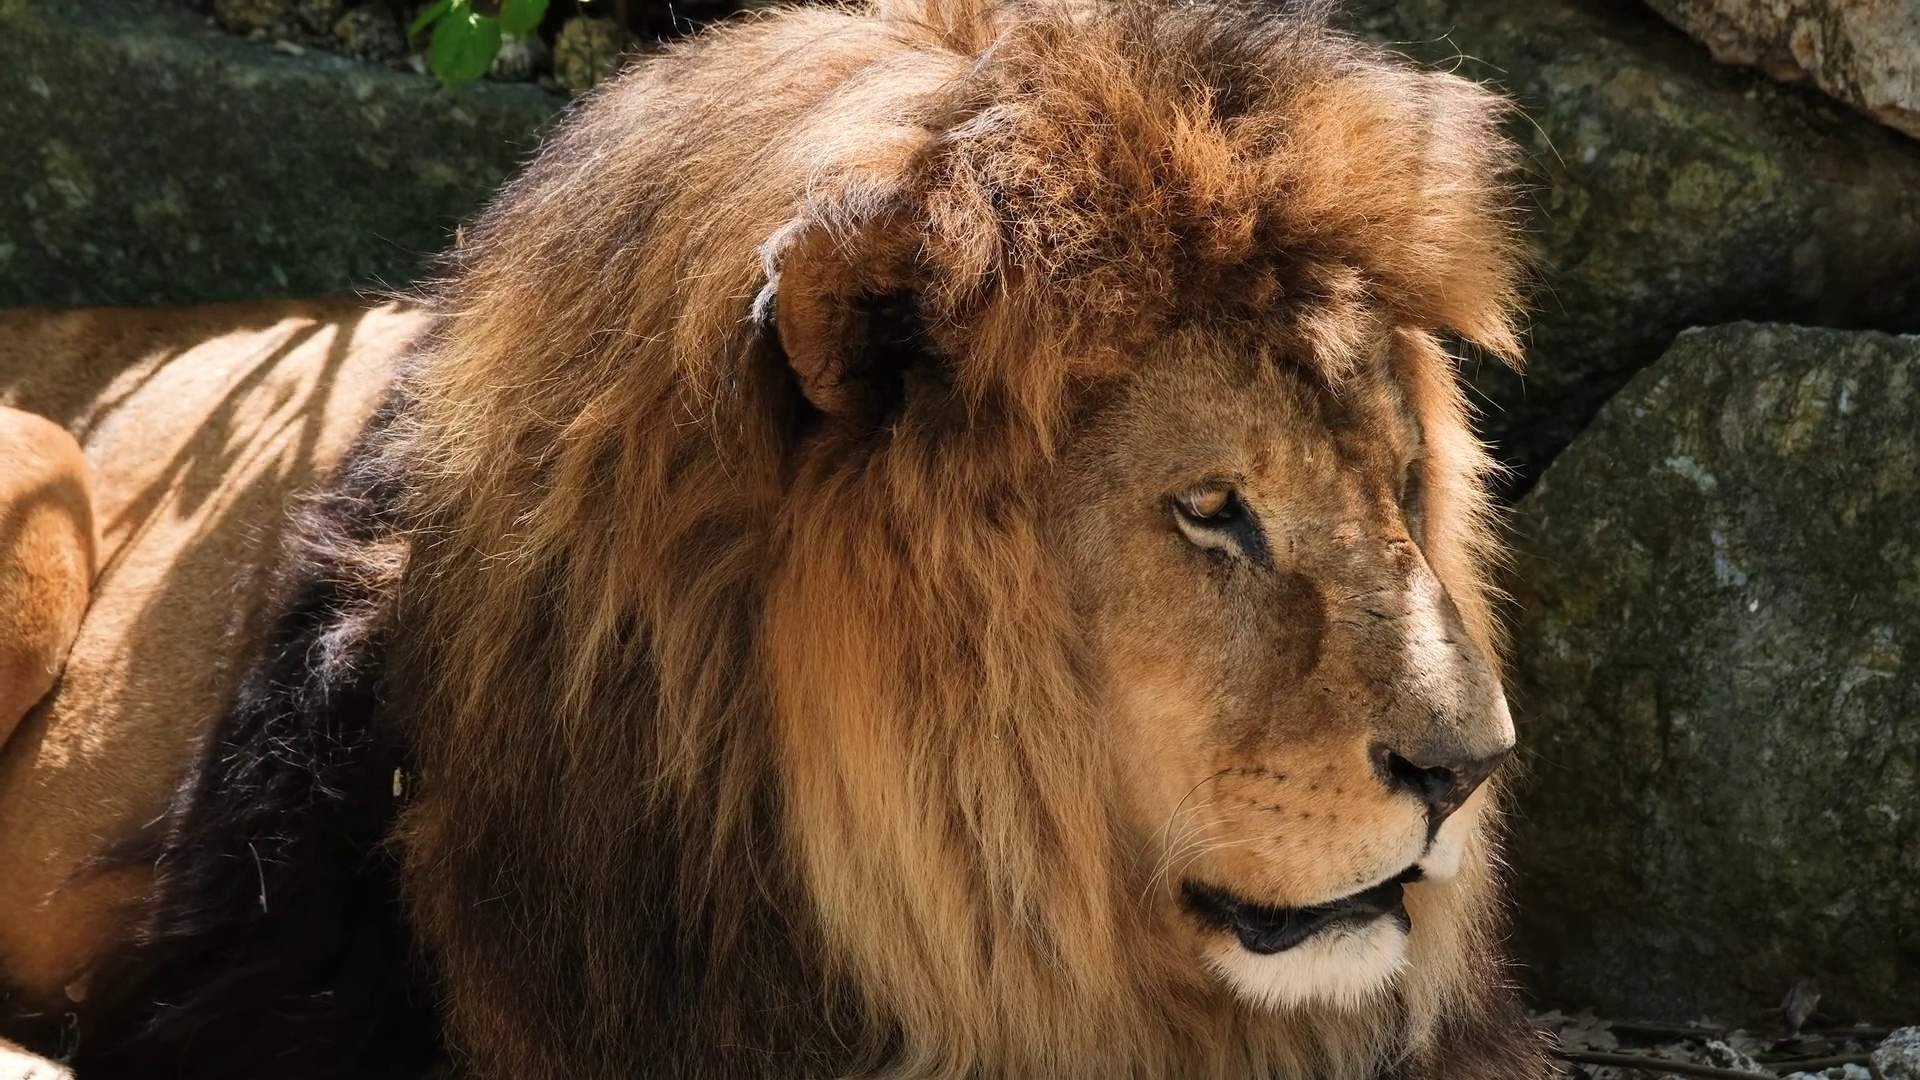Lion: (4, 4, 1553, 1080)
